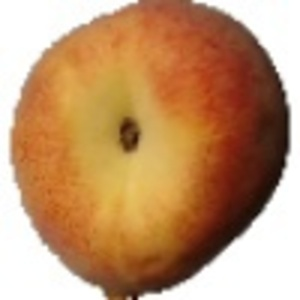pêssego: (6, 1, 291, 300)
